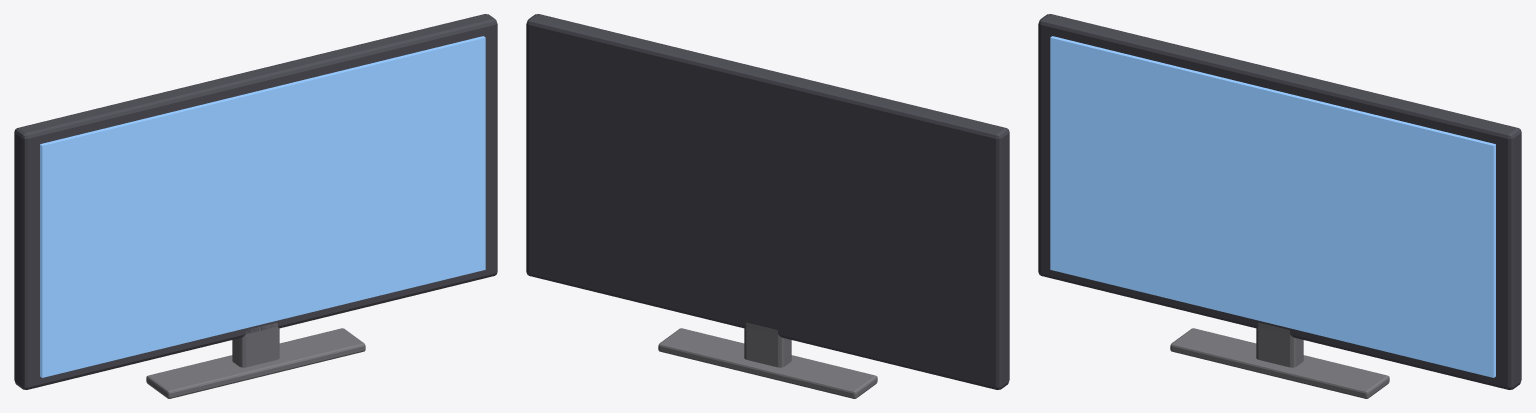
The picture shows the model from 3 angles, left to right: view 1: azimuth 30°, elevation 25°; view 2: azimuth 150°, elevation 25°; view 3: azimuth 330°, elevation 25°; orthographic projection.
Visible parts, largest first — view 1: Vidro, Tela, Pe, Pescoco; view 2: Tela, Pe, Pescoco; view 3: Vidro, Tela, Pe, Pescoco.
Part boxes in pixels (<box>): Vidro: <box>40,36,485,377</box>; Tela: <box>14,14,497,389</box>; Pe: <box>146,328,365,398</box>; Pescoco: <box>232,322,279,367</box>; Tela: <box>526,14,1009,389</box>; Pe: <box>658,328,877,398</box>; Pescoco: <box>744,322,791,367</box>; Vidro: <box>1050,36,1495,377</box>; Tela: <box>1038,14,1521,389</box>; Pe: <box>1170,328,1389,398</box>; Pescoco: <box>1256,322,1303,367</box>.
Size of the model in its own units: 1.2 by 0.71 by 0.1.
